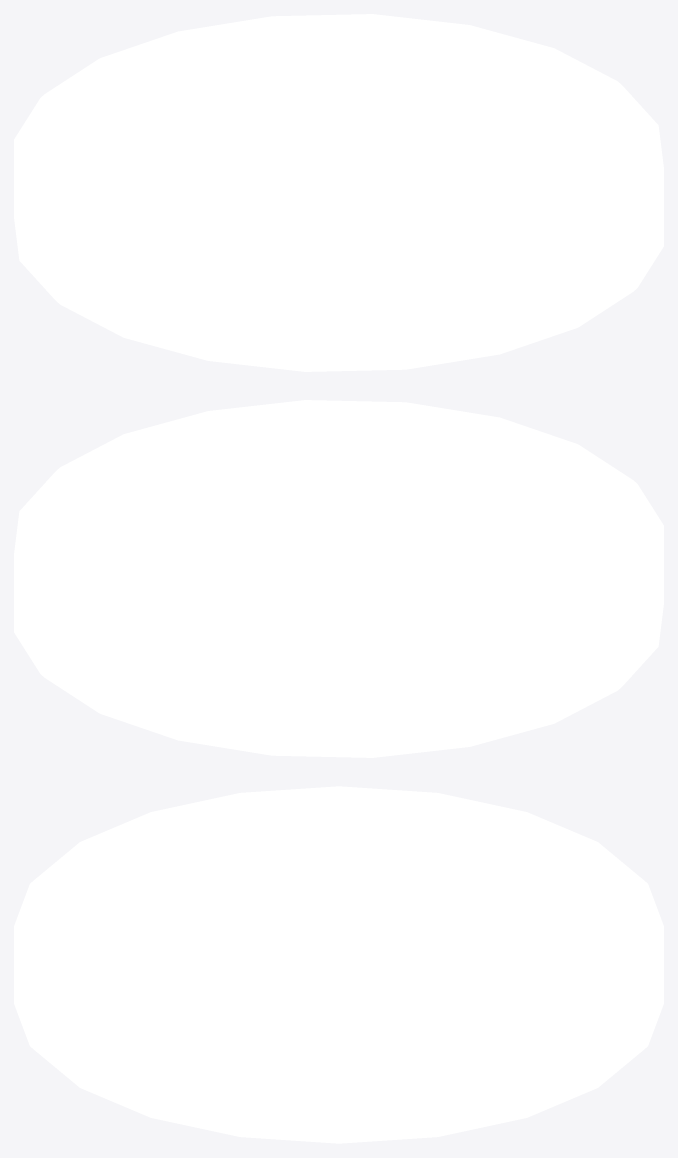
The model's file is titleCoin.gltf.
3 views of the same model, one above another, from view 1: azimuth 30°, elevation 25°; view 2: azimuth 150°, elevation 25°; view 3: azimuth 270°, elevation 25° (orthographic).
Visible parts, largest first — view 1: Mesh; view 2: Mesh; view 3: Mesh.
Boxes of the visible parts, box(x1,y1,x2,y2) form: Mesh: box(14, 14, 663, 371); Mesh: box(14, 400, 663, 757); Mesh: box(14, 786, 663, 1143).
Size of the model in its own units: 20 by 3.14 by 20.
Materials: 1 (1 with a texture image).
